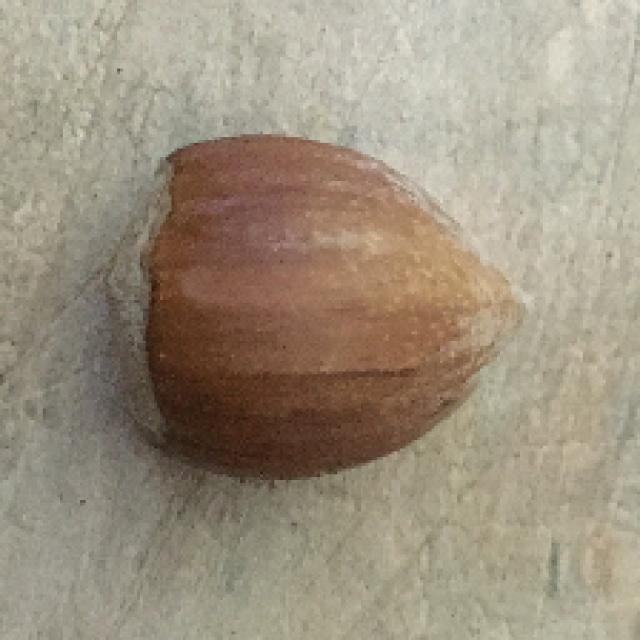qualityHazelnut: (101, 137, 532, 480)
